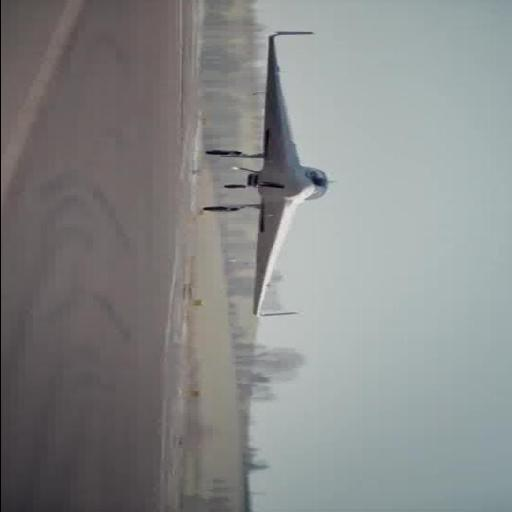uav: (194, 30, 328, 324)
